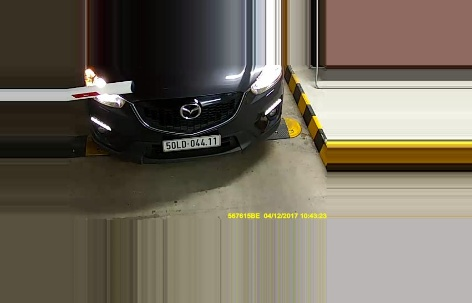plate: (159, 134, 225, 150)
